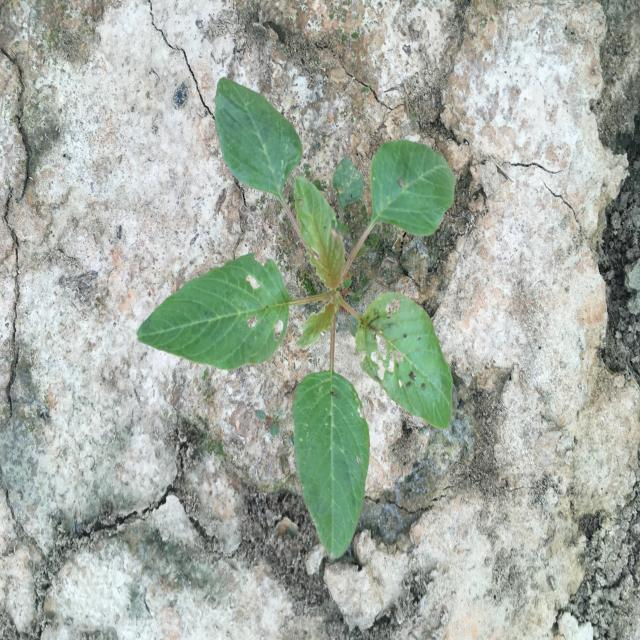PalmerAmaranth: (136, 76, 455, 559)
